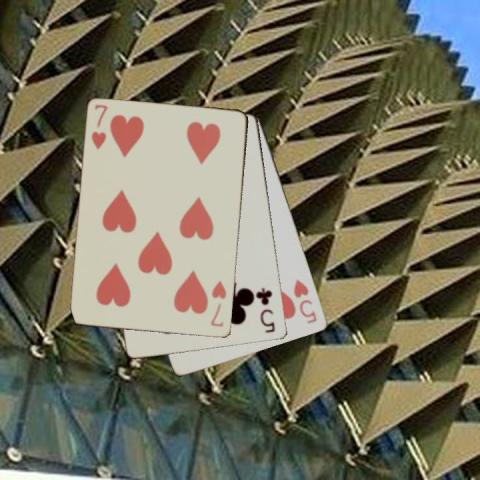5c: (255, 284, 277, 334)
5h: (290, 276, 318, 325)
7h: (207, 278, 228, 329), (88, 102, 108, 151)
